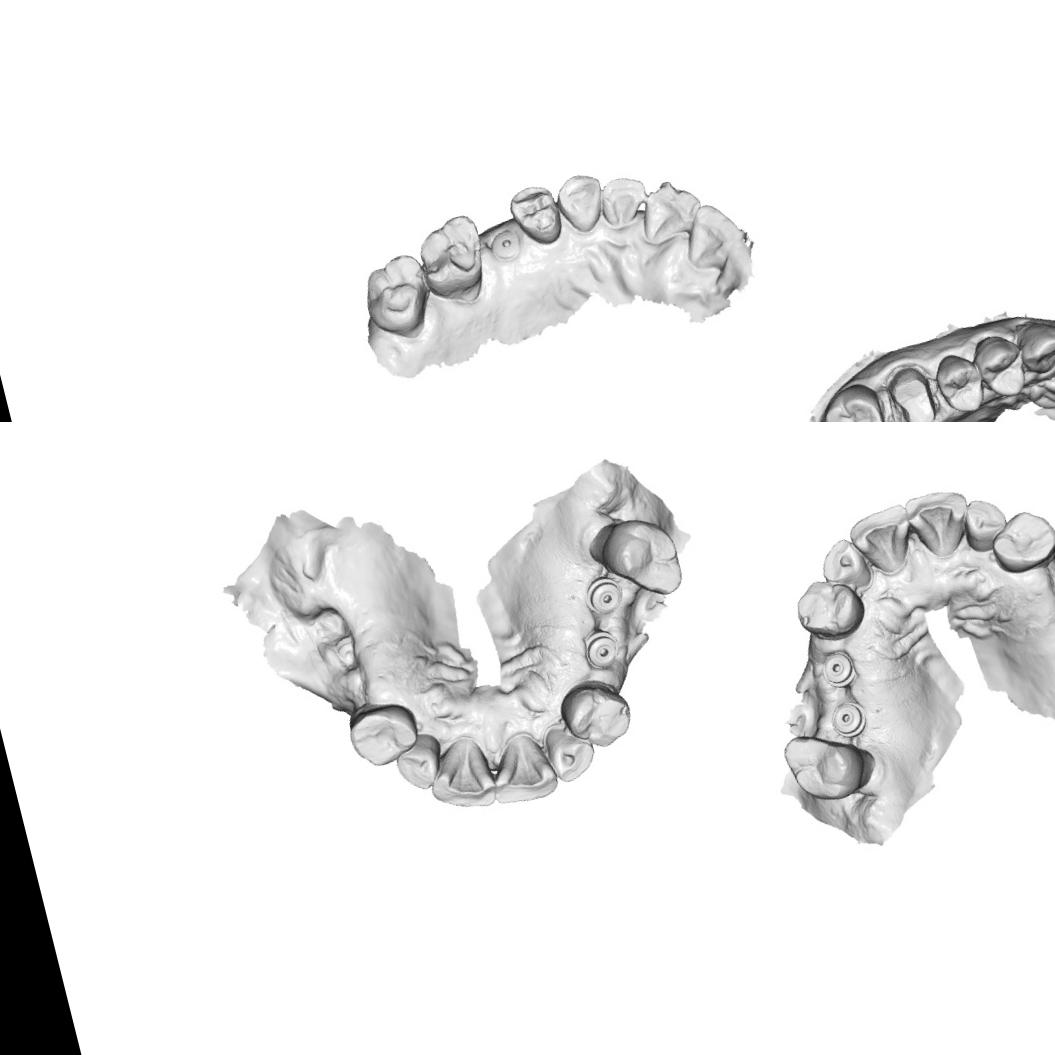canine: (550, 167, 611, 238), (1012, 313, 1055, 377)
crown: (879, 356, 943, 422)
implant: (580, 571, 628, 618), (816, 645, 862, 694), (580, 624, 625, 672), (824, 695, 870, 741), (486, 225, 522, 262)
incisor: (419, 730, 503, 819), (478, 730, 562, 810), (843, 500, 921, 582), (902, 484, 979, 564), (631, 172, 708, 248), (675, 196, 750, 273), (814, 532, 878, 600), (389, 729, 453, 794), (540, 718, 601, 785), (593, 170, 653, 232), (957, 493, 1012, 556)
molar: (582, 507, 689, 611), (778, 719, 880, 811), (412, 209, 494, 310), (354, 249, 438, 344), (815, 376, 893, 422)
premolar: (553, 673, 638, 758), (343, 696, 429, 772), (788, 569, 870, 648), (984, 504, 1055, 579), (968, 328, 1030, 404), (504, 179, 566, 252), (929, 346, 988, 419)
